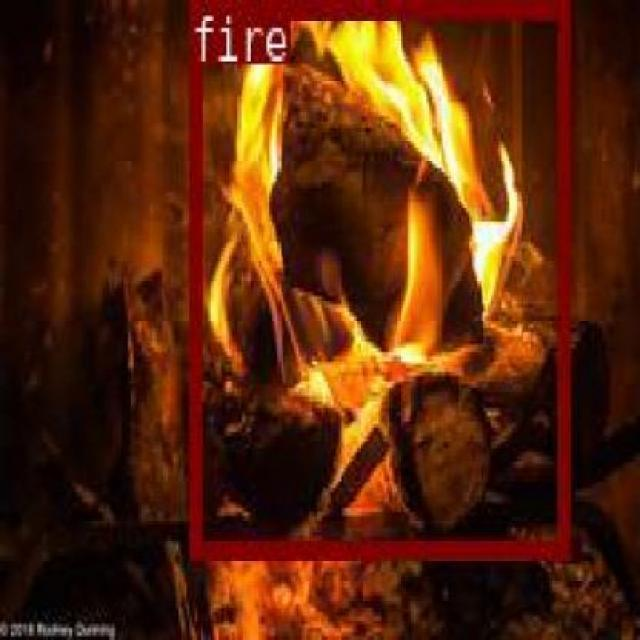Fire: (187, 0, 566, 555)
